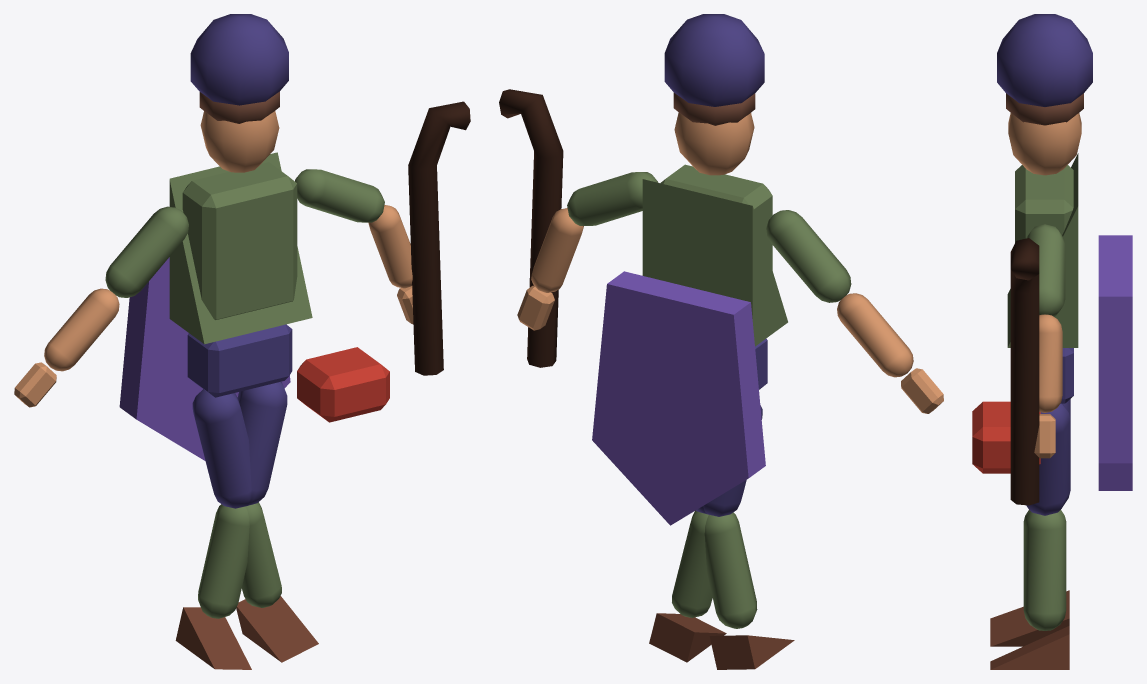
Rendered from adventurer.rustic.glb.
3 views of the same model, side by side, from view 1: azimuth 30°, elevation 25°; view 2: azimuth 150°, elevation 25°; view 3: azimuth 270°, elevation 25° (orthographic).
Visible parts, largest first — view 1: torso, accessory.back, accessory.main-hand, accessory.head, tunic, pelvis, accessory.waist, thigh.left, shin.right, upper-arm.left, thigh.right, head (+8 smaller); view 2: accessory.back, tunic, accessory.head, accessory.main-hand, shin.right, upper-arm.left, head, forearm.left, upper-arm.right, torso, shin.left, forearm.right (+6 smaller); view 3: accessory.back, accessory.main-hand, accessory.head, shin.left, torso, head, accessory.waist, thigh.right, tunic, upper-arm.right, forearm.right, foot.left (+4 smaller).
Boxes of the visible parts, x1=… form: torso: x1=182, y1=162, x2=297, y2=319; accessory.back: x1=119, y1=257, x2=290, y2=460; accessory.main-hand: x1=408, y1=101, x2=470, y2=375; accessory.head: x1=190, y1=14, x2=288, y2=105; tunic: x1=169, y1=152, x2=312, y2=344; pelvis: x1=187, y1=324, x2=292, y2=397; accessory.waist: x1=297, y1=347, x2=389, y2=422; thigh.left: x1=192, y1=389, x2=251, y2=508; shin.right: x1=198, y1=504, x2=249, y2=618; upper-arm.left: x1=105, y1=206, x2=188, y2=297; thigh.right: x1=237, y1=381, x2=287, y2=506; head: x1=200, y1=111, x2=279, y2=172; accessory.back: x1=592, y1=271, x2=765, y2=525; tunic: x1=642, y1=179, x2=787, y2=346; accessory.head: x1=664, y1=14, x2=764, y2=106; accessory.main-hand: x1=499, y1=89, x2=563, y2=367; shin.right: x1=704, y1=512, x2=757, y2=628; upper-arm.left: x1=766, y1=210, x2=851, y2=302; head: x1=674, y1=112, x2=754, y2=175; forearm.left: x1=837, y1=293, x2=913, y2=377; upper-arm.right: x1=567, y1=172, x2=658, y2=225; torso: x1=660, y1=164, x2=772, y2=269; shin.left: x1=672, y1=510, x2=712, y2=617; forearm.right: x1=531, y1=208, x2=583, y2=292; accessory.back: x1=1098, y1=235, x2=1132, y2=490; accessory.main-hand: x1=1010, y1=238, x2=1039, y2=505; accessory.head: x1=997, y1=14, x2=1092, y2=106; shin.left: x1=1023, y1=511, x2=1066, y2=630; torso: x1=1015, y1=165, x2=1073, y2=242; head: x1=1008, y1=113, x2=1081, y2=175; accessory.waist: x1=972, y1=401, x2=1040, y2=473; thigh.right: x1=1026, y1=403, x2=1070, y2=515; tunic: x1=1007, y1=153, x2=1078, y2=347; upper-arm.right: x1=1026, y1=224, x2=1065, y2=316; forearm.right: x1=1039, y1=314, x2=1062, y2=412; foot.left: x1=990, y1=626, x2=1069, y2=669.
Bounding box in the file's own units: 2.39 × 3.28 × 0.75.
